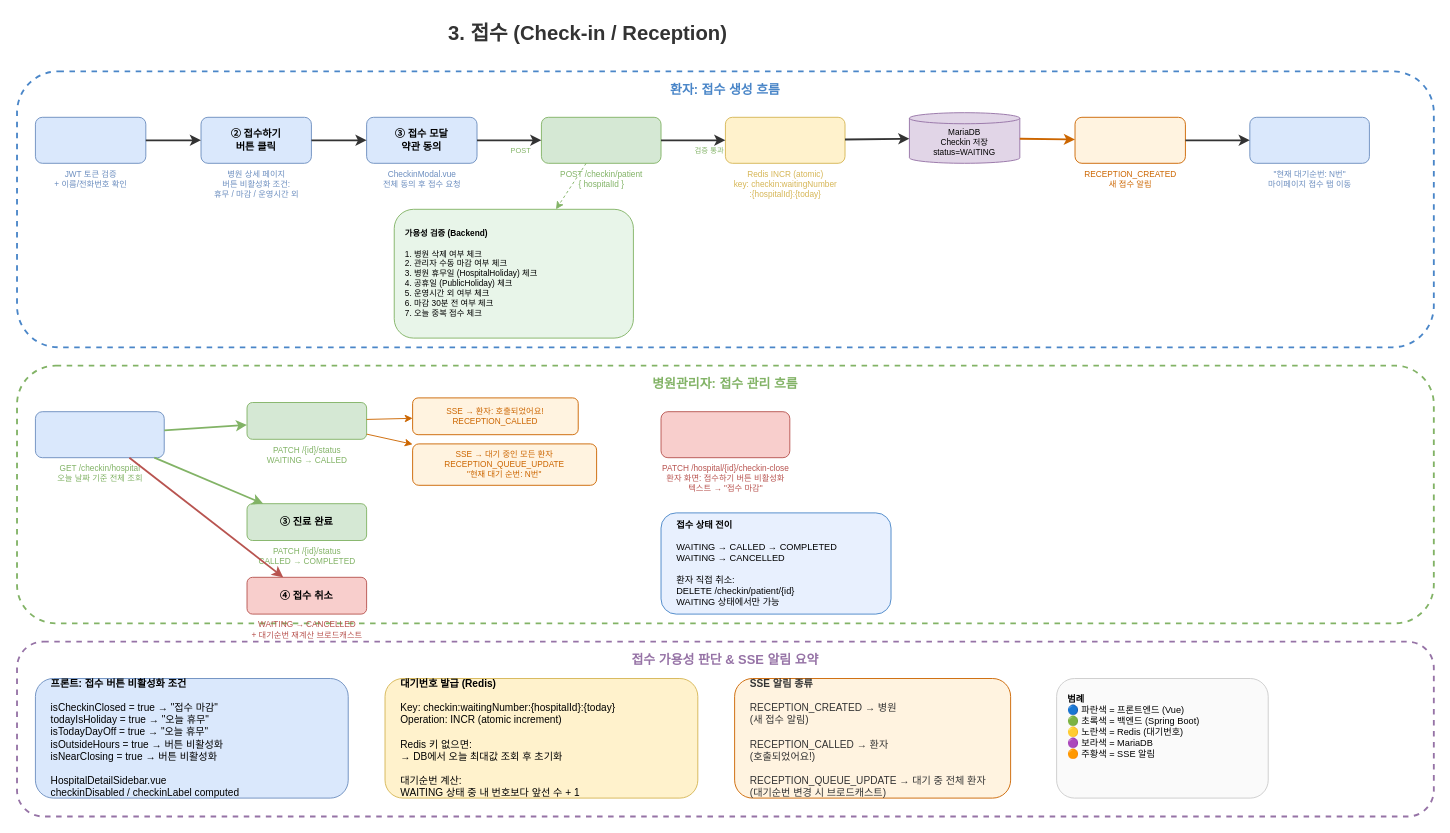
Some shapes in this 1450 by 833 pixel diagram are drawn without their labels. Each missing label, with the centre of its shape:
"① profileGuard 검증" belongs at pixel 90 139.
"① 오늘 접수 목록" belongs at pixel 99 434.
"② 환자 호출" belongs at pixel 306 420.
"④ 접수 생성" belongs at pixel 600 139.
"⑤ 대기번호 발급" belongs at pixel 784 139.
"⑤ 접수 수동 마감" belongs at pixel 725 434.
"⑦ SSE 알림 → 병원" belongs at pixel 1129 139.
"⑧ 대기순번 표시" belongs at pixel 1309 139.
